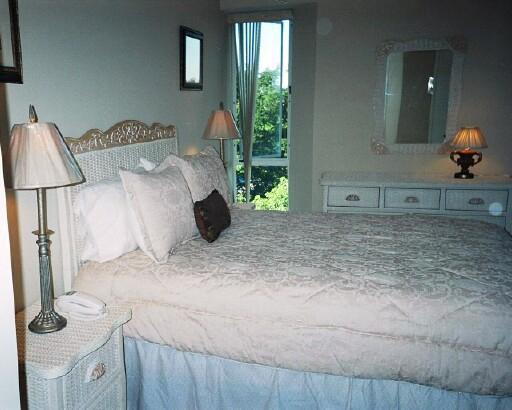Cama: (74, 129, 508, 407)
